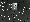person: (9, 5, 17, 15)
